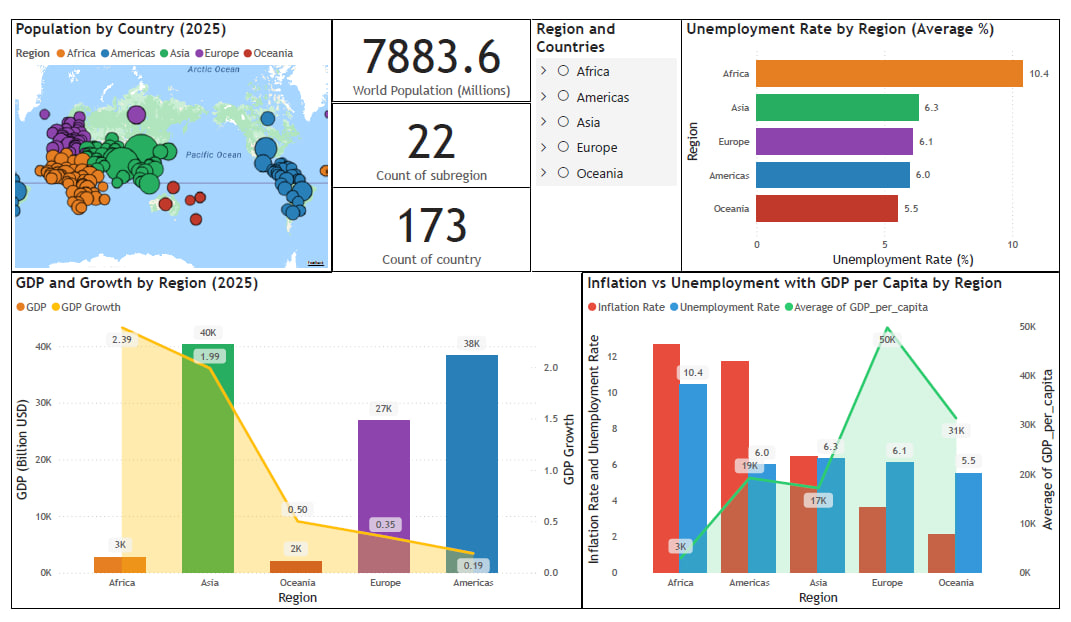

What the dashboard file says about the page in this screenshot:
{"tool":"powerbi","page":{"name":"World Economic ","canvas":[1280,720],"ordinal":0},"visuals":[{"type":"azureMap","title":"Population by Country (2025)","fields":{"Category":["world_economics.country"],"Size":["Sum(world_economics.Population)"],"Series":["world_economics.region"]},"box":[0,0,392.3,308.8],"z":0},{"type":"clusteredBarChart","title":"Unemployment Rate by Region (Average %)","fields":{"Category":["world_economics.region"],"Y":["Avg(world_economics.Unemployment Rate)"]},"box":[817.7,0,462.7,308.8],"z":1000},{"type":"lineStackedColumnComboChart","title":"GDP and Growth by Region (2025)","fields":{"Y":["Sum(world_economics.GDP)"],"Y2":["Avg(world_economics.GDP Growth)"],"Category":["world_economics.region"]},"box":[0,308.8,697,411.4],"z":2000},{"type":"listSlicer","title":"Region and Countries","fields":{"Values":["world_economics.region","world_economics.country"]},"box":[634.6,0,183.1,308.8],"z":3000},{"type":"lineClusteredColumnComboChart","title":"Inflation vs Unemployment with GDP per Capita by Region","fields":{"Category":["world_economics.region"],"Y":["Avg(world_economics.Inflation Rate)","Avg(world_economics.Unemployment Rate)"],"Y2":["Avg(world_economics.GDP_per_capita)"]},"box":[697,308.8,583.3,411.4],"z":4000},{"type":"card","fields":{"Values":["Count(world_economics.country)"]},"box":[392.3,205.2,242.4,103.6],"z":5000},{"type":"card","fields":{"Values":["Count(world_economics.subregion)"]},"box":[392.3,102.6,242.4,103.6],"z":6000},{"type":"card","fields":{"Values":["Sum(world_economics.Population)"]},"box":[392.3,0,242.4,102],"z":7000}]}

Visuals, with their boxes in screenshot pixels (x1, y1, x2, y2):
"Population by Country (2025)" azureMap: locate(6, 14, 329, 269)
"Unemployment Rate by Region (Average %)" clusteredBarChart: locate(680, 14, 1062, 269)
"GDP and Growth by Region (2025)" lineStackedColumnComboChart: locate(6, 269, 581, 608)
"Region and Countries" listSlicer: locate(529, 14, 680, 269)
"Inflation vs Unemployment with GDP per Capita by Region" lineClusteredColumnComboChart: locate(581, 269, 1062, 608)
card - Count(world_economics.country): locate(329, 183, 529, 269)
card - Count(world_economics.subregion): locate(329, 99, 529, 184)
card - Sum(world_economics.Population): locate(329, 14, 529, 98)
